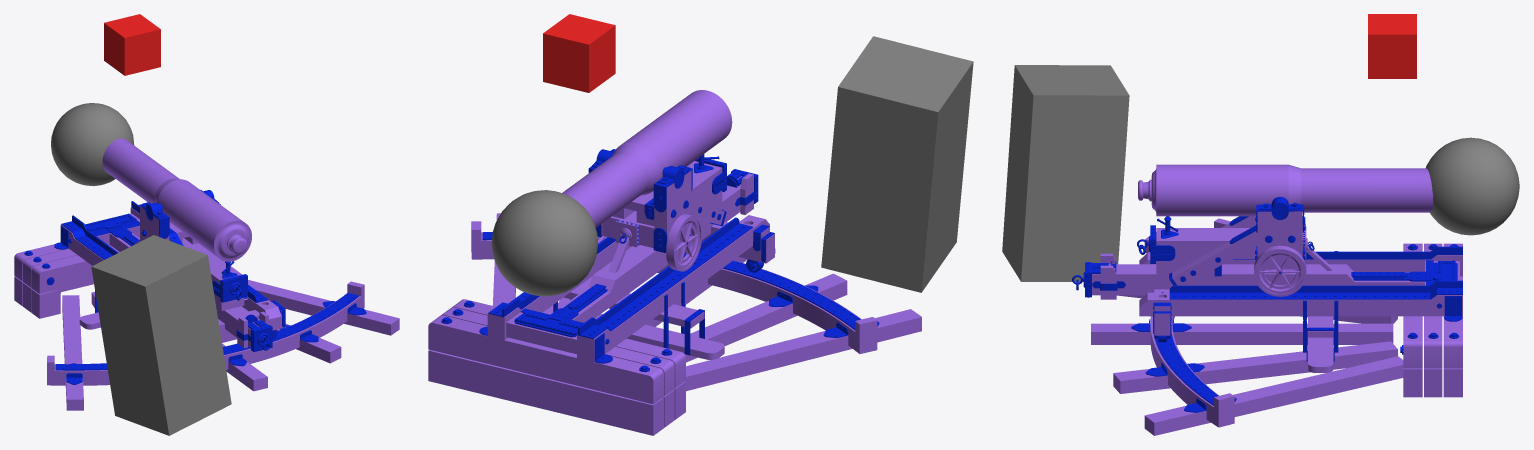
The model's file is Cannon.glb.
3 renders of one model, left to right at view 1: azimuth 30°, elevation 25°; view 2: azimuth 150°, elevation 25°; view 3: azimuth 270°, elevation 25°, orthographic. The views are drawn at different scales.
Parts seen in each view (by area): view 1: SoldierFact, Cylinder, CannonBallFact, Cube_0391, CloseButton, Cube.023, Cube.025, Cube.047, Cube.033, Plane.010, Cube.064, Cube_0181 (+6 smaller); view 2: SoldierFact, Cube_0391, Cylinder, CannonBallFact, Cube.047, Cube.064, Cube_0181, CloseButton, Cube.023, Plane.010, Cube.048, Cube.033 (+12 smaller); view 3: SoldierFact, Cylinder, CannonBallFact, Cube.064, Plane.010, Cube.025, Cube.031, Cube_0391, Cube.024, Cube_0181, CloseButton, Cube.014 (+13 smaller).
Part boxes in pixels (left/top/right/bottom): SoldierFact: left=91, top=235, right=231, bottom=435; Cylinder: left=102, top=138, right=251, bottom=261; CannonBallFact: left=51, top=103, right=134, bottom=186; Cube_0391: left=14, top=237, right=139, bottom=318; CloseButton: left=104, top=14, right=160, bottom=75; Cube.023: left=47, top=281, right=364, bottom=385; Cube.025: left=248, top=280, right=399, bottom=335; Cube.047: left=62, top=295, right=83, bottom=410; Cube.033: left=55, top=293, right=359, bottom=370; Plane.010: left=61, top=201, right=268, bottom=302; Cube.064: left=60, top=207, right=281, bottom=325; Cube_0181: left=96, top=213, right=259, bottom=347; SoldierFact: left=821, top=36, right=973, bottom=292; Cube_0391: left=428, top=299, right=685, bottom=435; Cylinder: left=562, top=90, right=732, bottom=227; CannonBallFact: left=491, top=190, right=597, bottom=296; Cube.047: left=685, top=309, right=921, bottom=391; Cube.064: left=487, top=215, right=769, bottom=362; Cube_0181: left=506, top=176, right=741, bottom=354; CloseButton: left=543, top=14, right=615, bottom=92; Cube.023: left=471, top=221, right=877, bottom=353; Plane.010: left=488, top=217, right=752, bottom=338; Cube.048: left=685, top=273, right=847, bottom=362; Cube.033: left=482, top=232, right=860, bottom=330; SoldierFact: left=1002, top=65, right=1129, bottom=281; Cylinder: left=1143, top=164, right=1433, bottom=216; CannonBallFact: left=1426, top=137, right=1519, bottom=235; Cube.064: left=1139, top=252, right=1462, bottom=316; Plane.010: left=1169, top=246, right=1462, bottom=299; Cube.025: left=1144, top=356, right=1403, bottom=435; Cube.031: left=1091, top=323, right=1393, bottom=344; Cube_0391: left=1403, top=243, right=1462, bottom=397; Cube.024: left=1113, top=341, right=1397, bottom=393; Cube_0181: left=1092, top=261, right=1459, bottom=295; CloseButton: left=1368, top=14, right=1416, bottom=78; Cube.014: left=1156, top=228, right=1257, bottom=275.
Bounding box in the file's own units: 0.4602 × 0.363 × 0.528.
